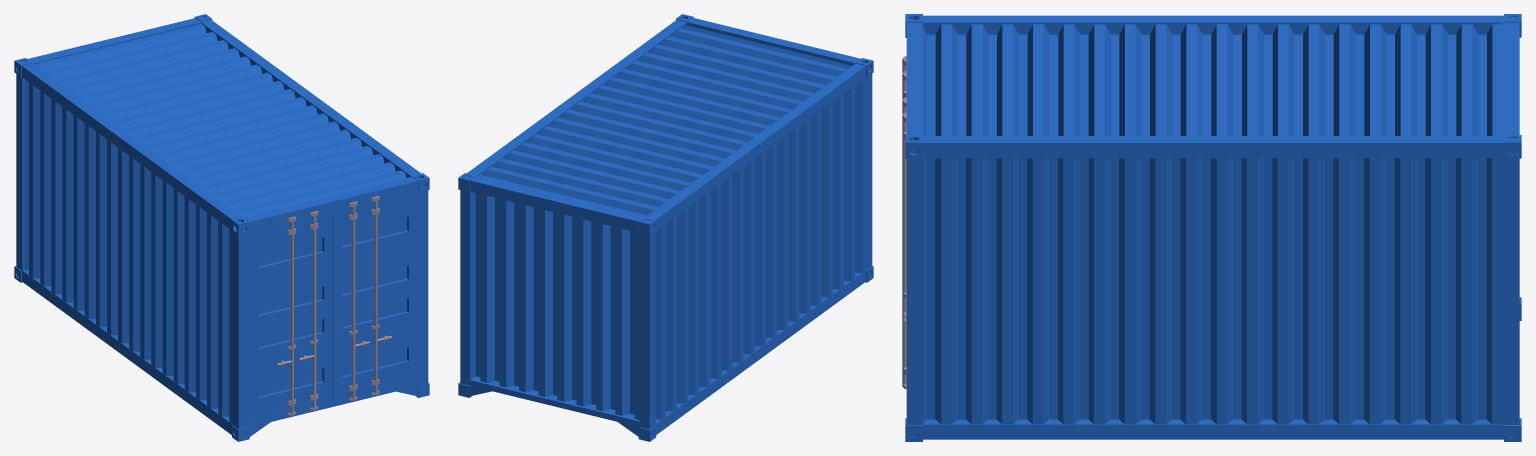
File: container-blue.fbx
The picture shows the model from 3 angles, left to right: view 1: azimuth 30°, elevation 25°; view 2: azimuth 150°, elevation 25°; view 3: azimuth 270°, elevation 25°; orthographic projection. The views are drawn at different scales.
Parts seen in each view (by area): view 1: side3, side2, doors, body; view 2: side3, side2, side4, body; view 3: side1, side2, body, doors.
Part boxes in pixels (x1,y1,x2,y2): side3: (24, 79, 232, 423); side2: (34, 24, 406, 217); doors: (248, 192, 418, 421); body: (14, 14, 429, 441); side3: (655, 77, 865, 419); side2: (478, 25, 851, 217); side4: (475, 193, 639, 419); body: (458, 14, 873, 441); side1: (923, 151, 1502, 424); side2: (923, 24, 1502, 150); body: (905, 14, 1521, 441); doors: (902, 56, 906, 389).
Bounding box in the file's own units: 297 × 323 × 605.
Materials: 1 (1 with a texture image).
